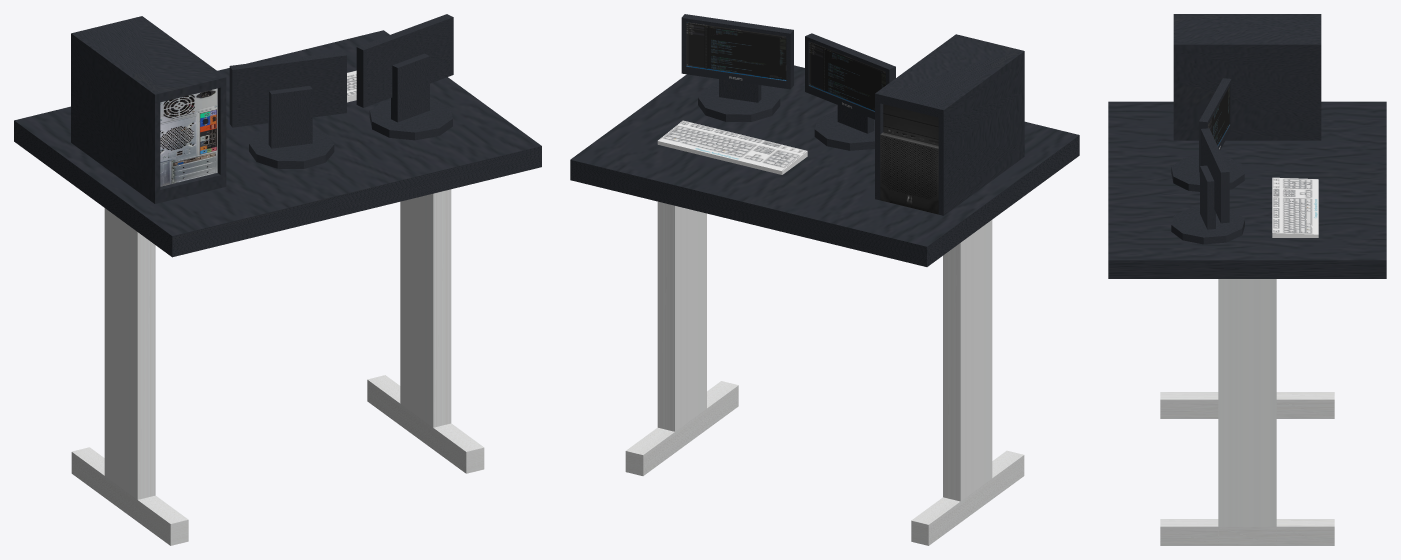
Rendered from PCDeskV1.gltf.
3 renders of one model, left to right at view 1: azimuth 30°, elevation 25°; view 2: azimuth 150°, elevation 25°; view 3: azimuth 270°, elevation 25°, orthographic. The views are drawn at different scales.
Visible parts, largest first — view 1: Cube, Cube.002, Cube.005, Cube.003, Cube.004, Cube.001, Cylinder, Cylinder.001; view 2: Cube, Cube.002, Cube.003, Cube.005, Cube.006, Cylinder, Cylinder.001, Cube.001, Cube.004; view 3: Cube, Cube.002, Cube.006, Cylinder, Cube.003, Cube.005, Cylinder.001, Cube.001.
Part boxes in pixels (left/top/right/bottom): Cube: left=14, top=30, right=541, bottom=545; Cube.002: left=71, top=16, right=226, bottom=203; Cube.005: left=229, top=51, right=346, bottom=127; Cube.003: left=356, top=14, right=453, bottom=107; Cube.004: left=268, top=86, right=312, bottom=148; Cube.001: left=391, top=53, right=429, bottom=122; Cylinder: left=369, top=99, right=452, bottom=140; Cylinder.001: left=249, top=129, right=334, bottom=168; Cube: left=570, top=65, right=1079, bottom=545; Cube.002: left=875, top=34, right=1024, bottom=215; Cube.003: left=681, top=14, right=793, bottom=89; Cube.005: left=805, top=33, right=895, bottom=119; Cube.006: left=657, top=120, right=807, bottom=174; Cylinder: left=698, top=84, right=780, bottom=121; Cylinder.001: left=814, top=110, right=874, bottom=150; Cube.001: left=719, top=79, right=761, bottom=102; Cube.004: left=837, top=105, right=874, bottom=133; Cube: left=1108, top=101, right=1386, bottom=545; Cube.002: left=1173, top=14, right=1321, bottom=140; Cube.006: left=1272, top=177, right=1318, bottom=237; Cylinder: left=1171, top=207, right=1244, bottom=244; Cube.003: left=1200, top=128, right=1229, bottom=223; Cube.005: left=1199, top=78, right=1231, bottom=172; Cylinder.001: left=1171, top=155, right=1244, bottom=191; Cube.001: left=1200, top=165, right=1215, bottom=229.
Size of the model in its own units: 0.5 by 0.5786 by 0.3705.
Materials: 6 (6 with a texture image).
